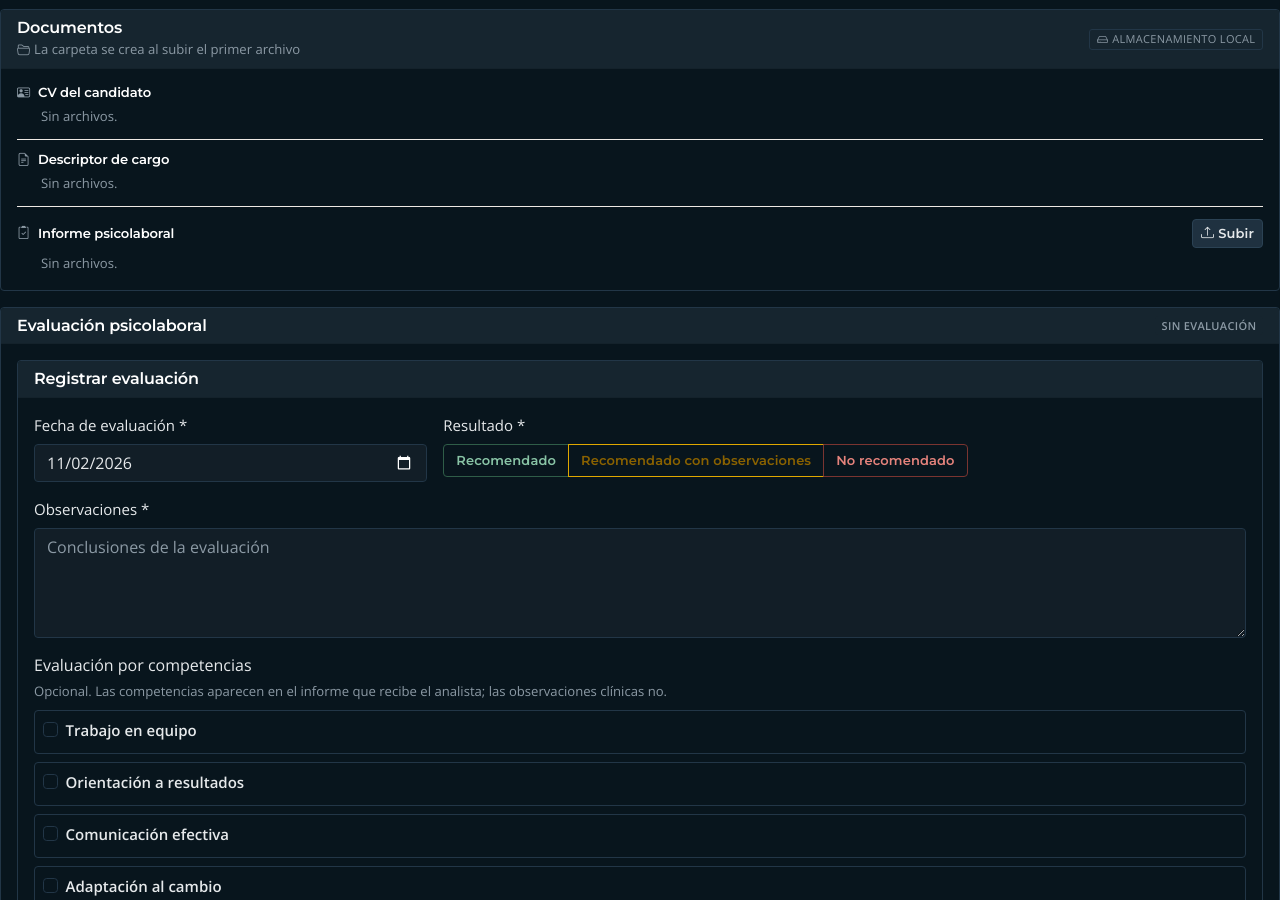
Test: DetalleSolicitud › informe en la carpeta de la solicitud › guarda el informe en la carpeta al registrar la evaluación y recarga los documentos
This screenshot has width=1280, height=900.
(page scrolled)
Expected: the text "La carpeta se crea al subir el primer archivo" is shown, [17, 40, 300, 58]
Click the radio button labelled "Recomendado" at (450, 450), box [443, 444, 456, 456]
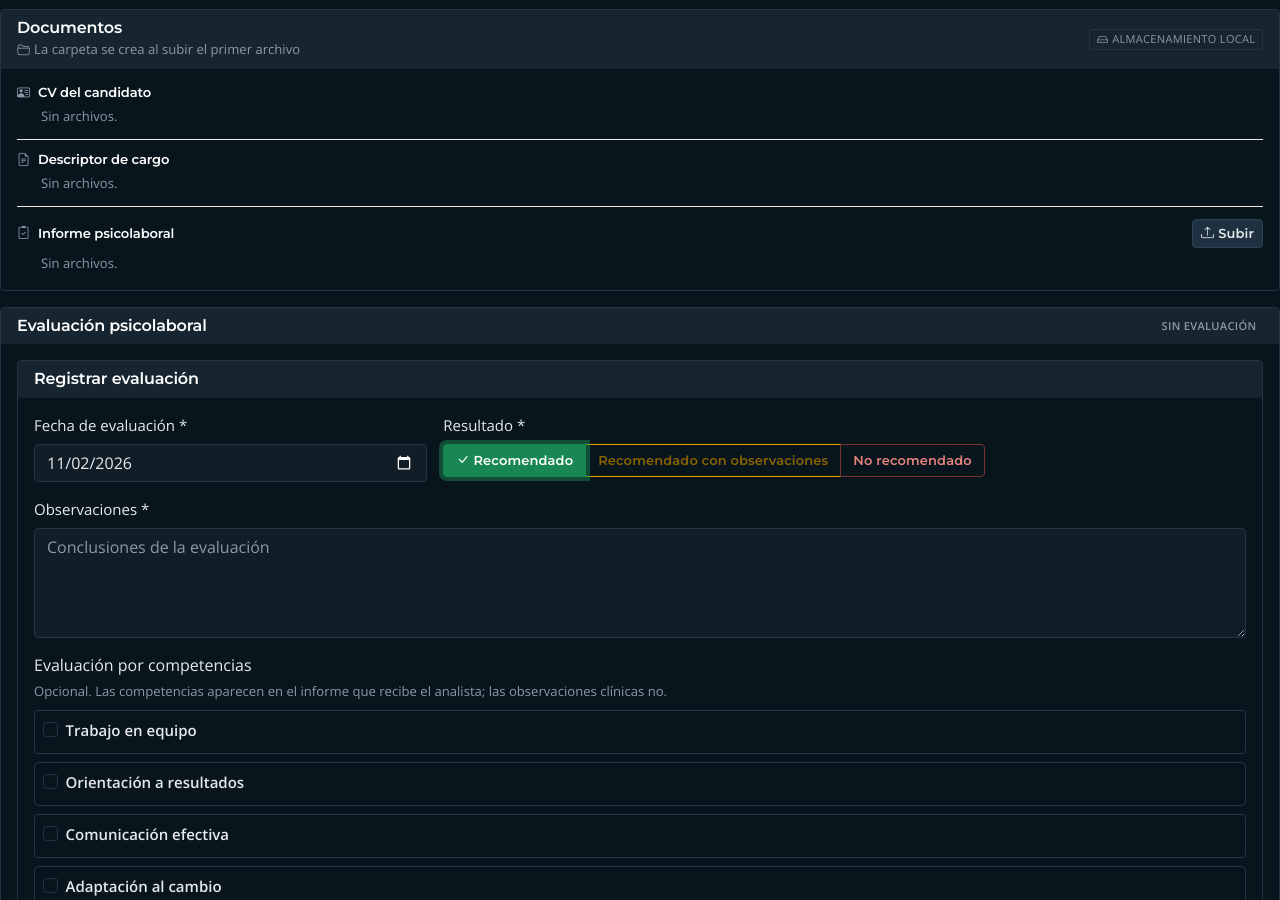
Type "Nota clínica reservada." into the text box labelled "Observaciones *" at (640, 582), box [34, 528, 1246, 638]
(page scrolled)
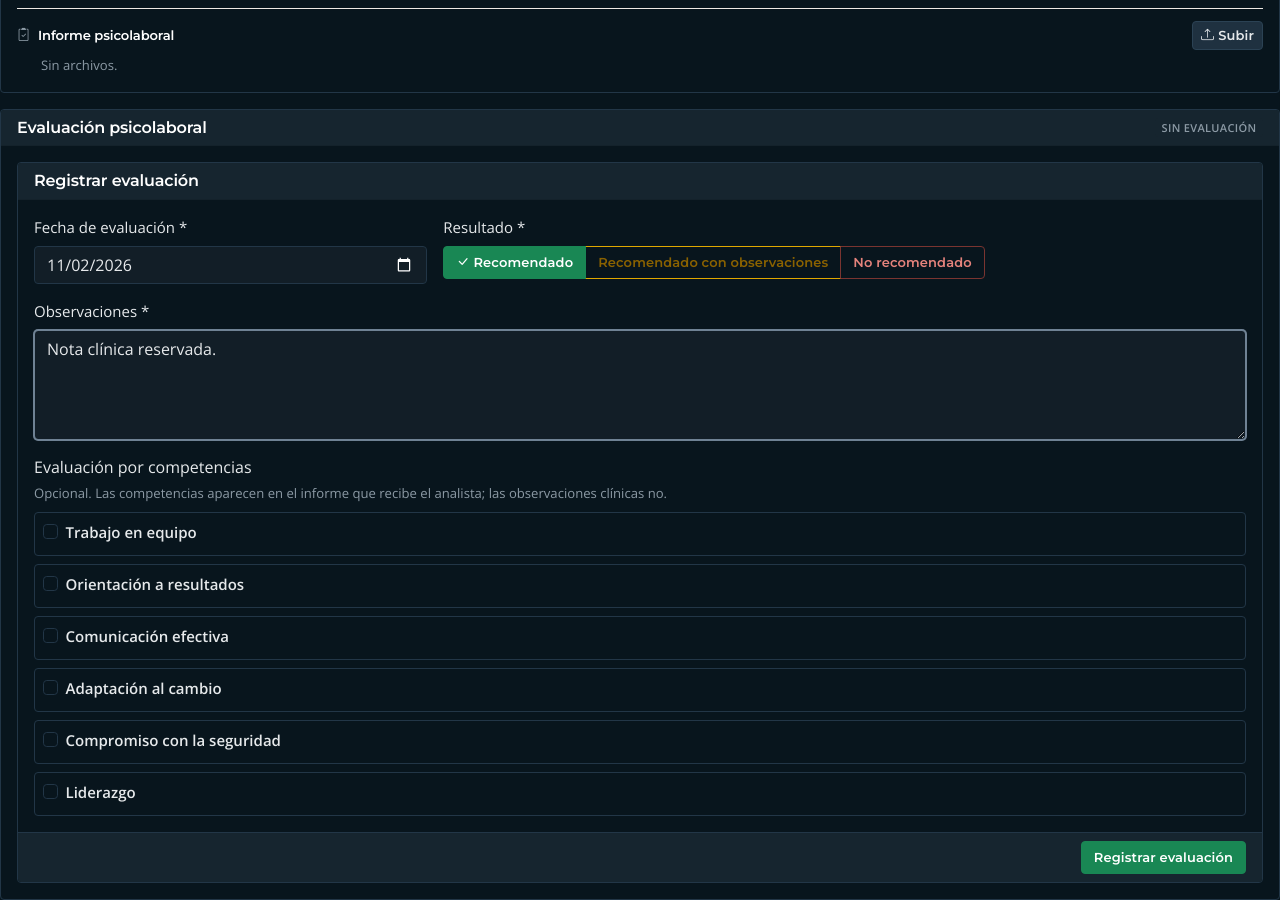
Click the button "Registrar evaluación" at (1163, 857), box [1081, 840, 1246, 874]
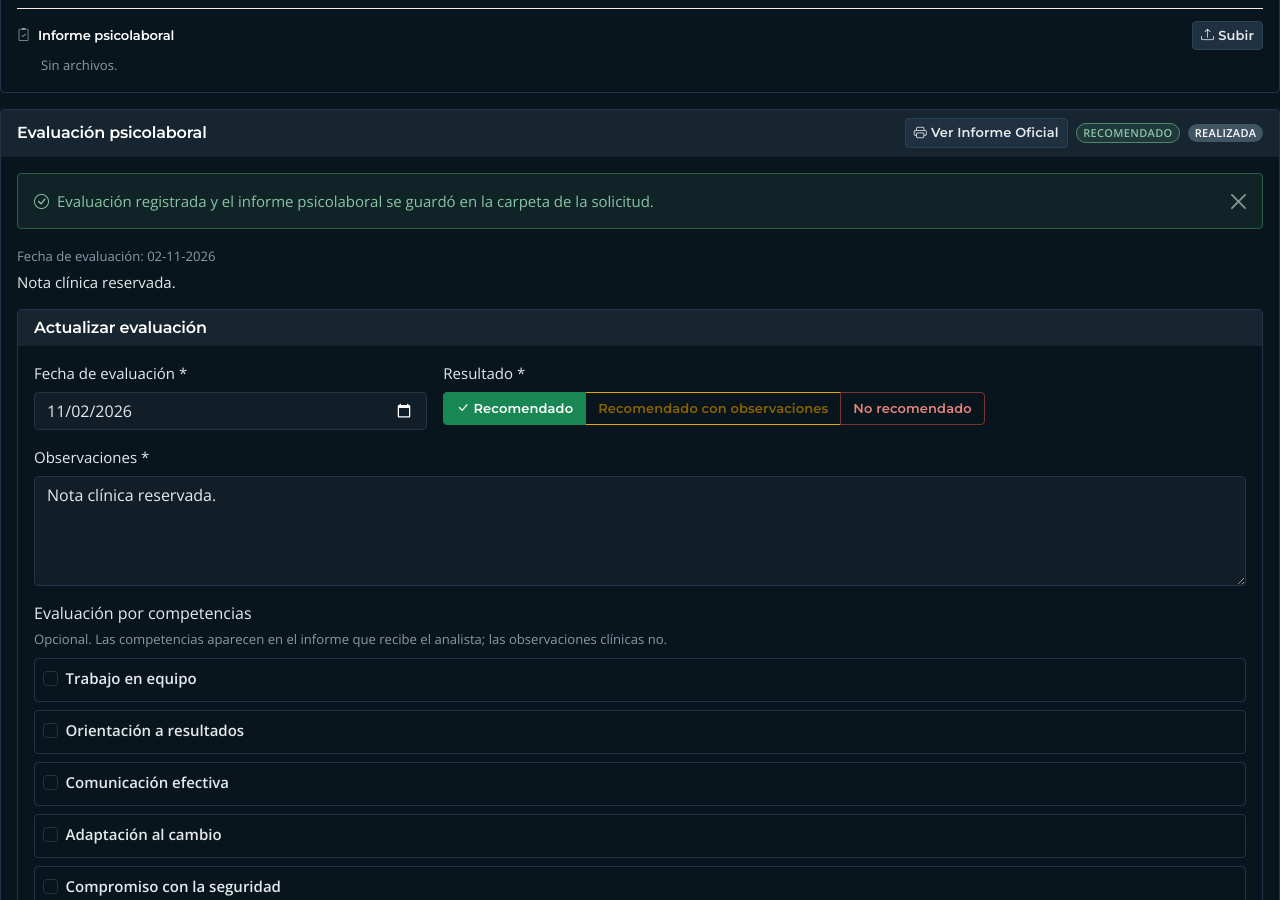
Now the text "el informe psicolaboral se guardó en la carpeta" is shown, box [57, 191, 654, 211]
